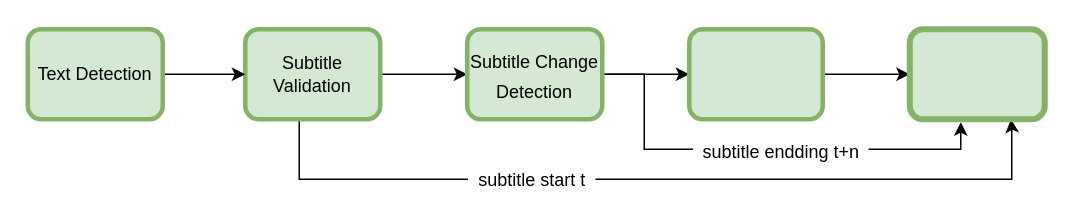
Some shapes in this 1074 by 218 pixel diagram are drawn without their labels. Each missing label, with the centre of its shape:
Text Recognition: [755,73]
Text/Audio Pair: [976,74]
